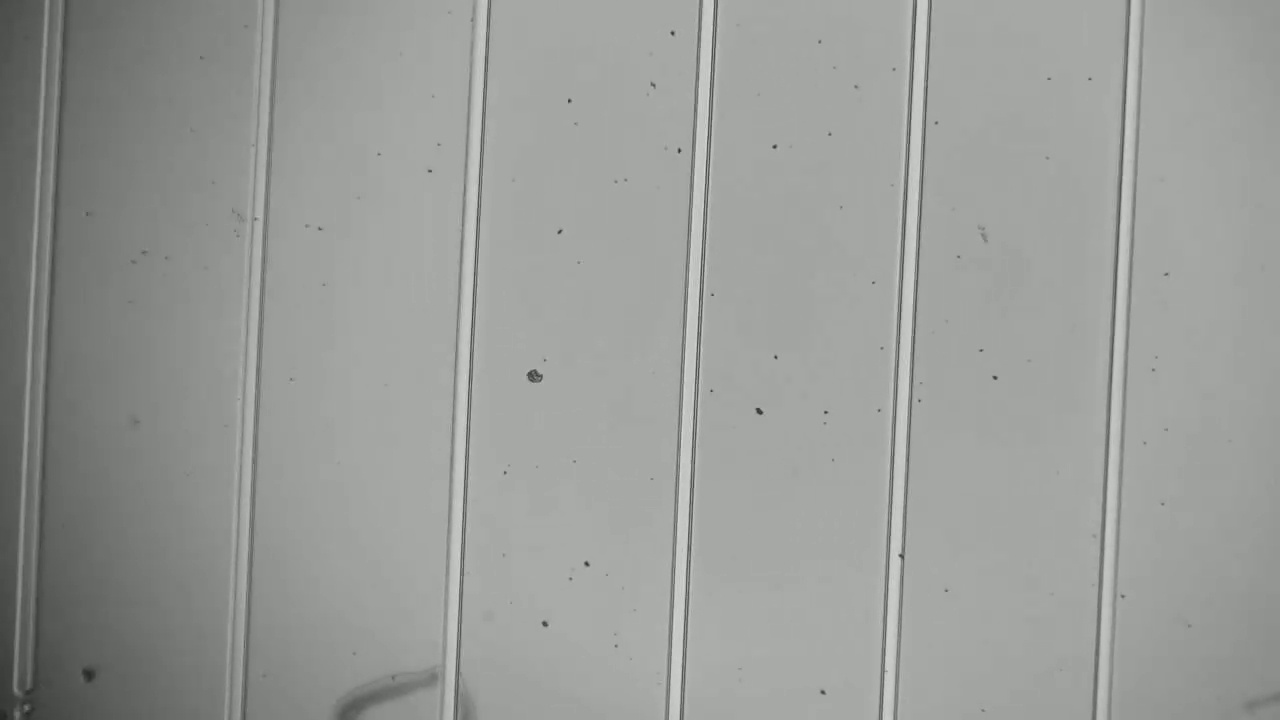open: (0, 657, 53, 719)
